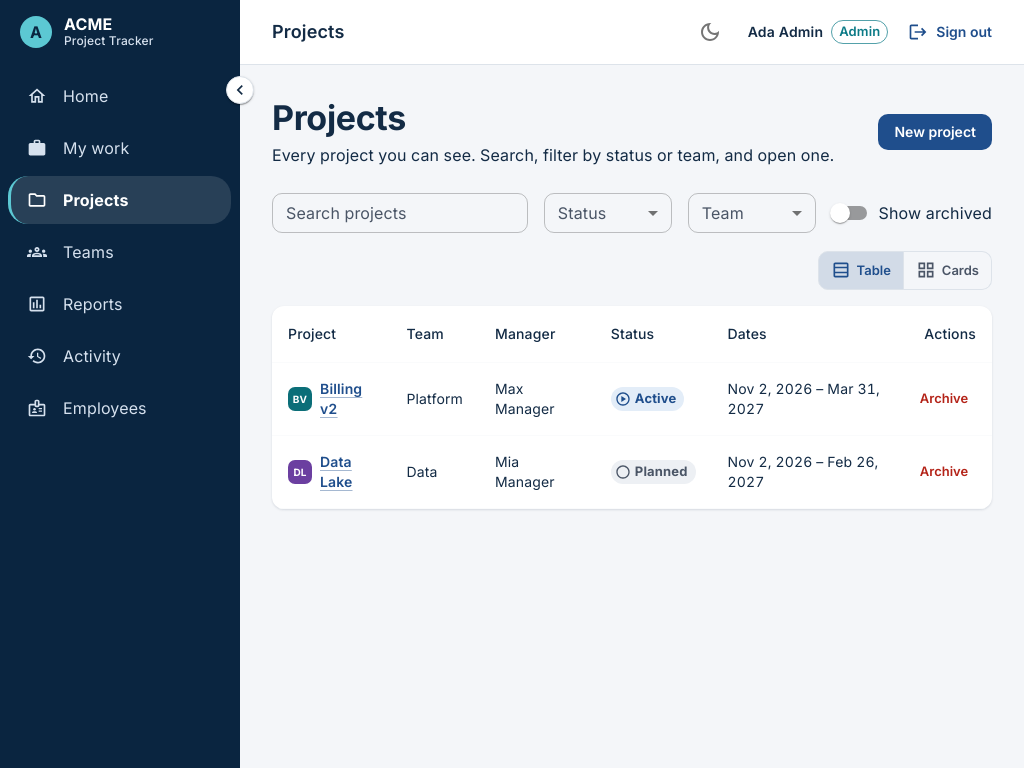
Test case: Projects: unarchive (admin and the team’s manager) › a refusal (team archived) says why in a sentence, with no toast
The image size is (1024, 768).
Check: the table named "Projects" is shown, box [272,306,992,509]
Click the switch labelled "Show archived".
click(911, 213)  # box [830,203,992,223]
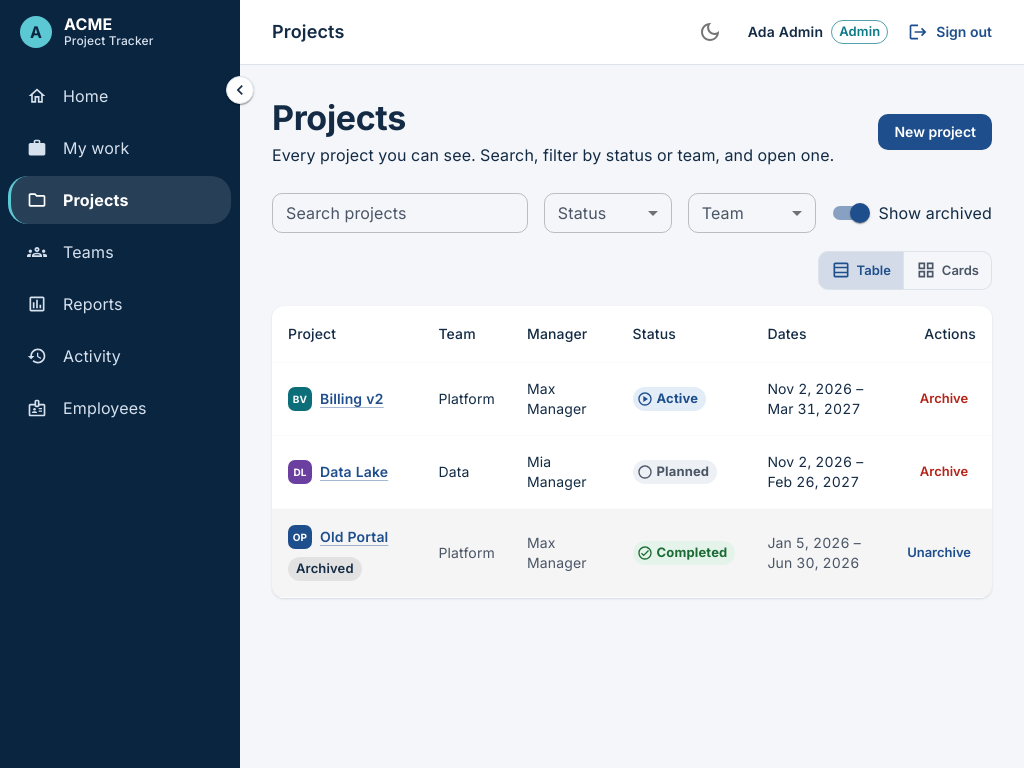
Click the button with aria-label "Unarchive Old Portal".
click(939, 553)  # box [902,537,976,568]
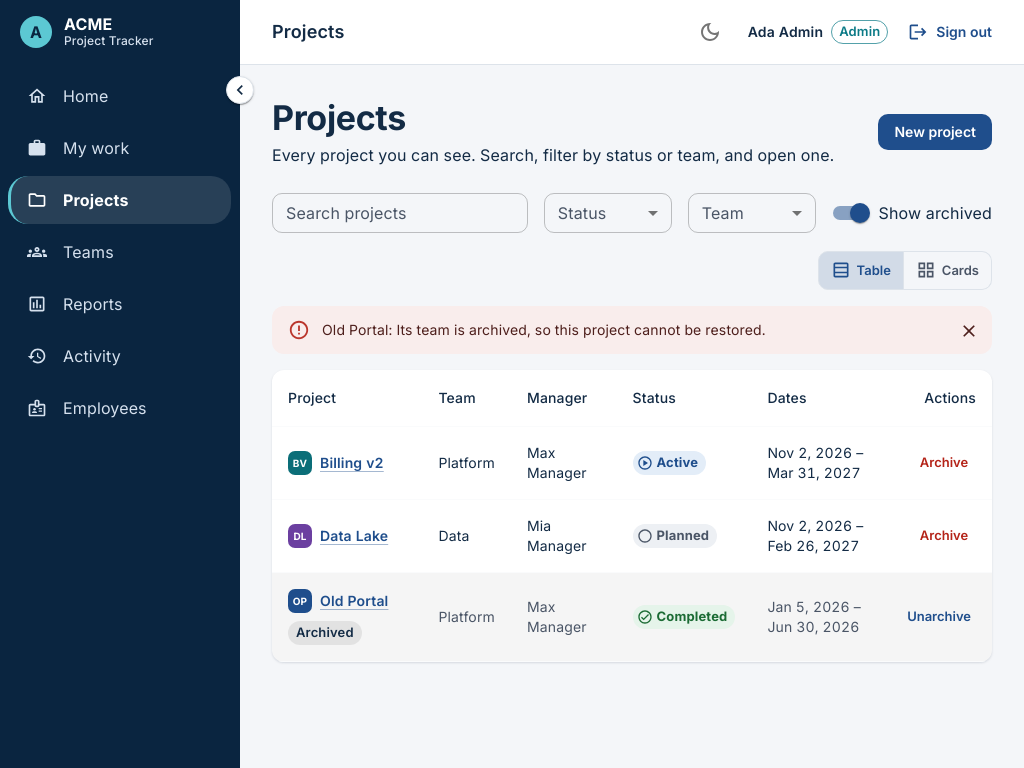
Check: the message reads "Old Portal: Its team is archived, so this project cannot be restored.", box [322,321,766,338]
